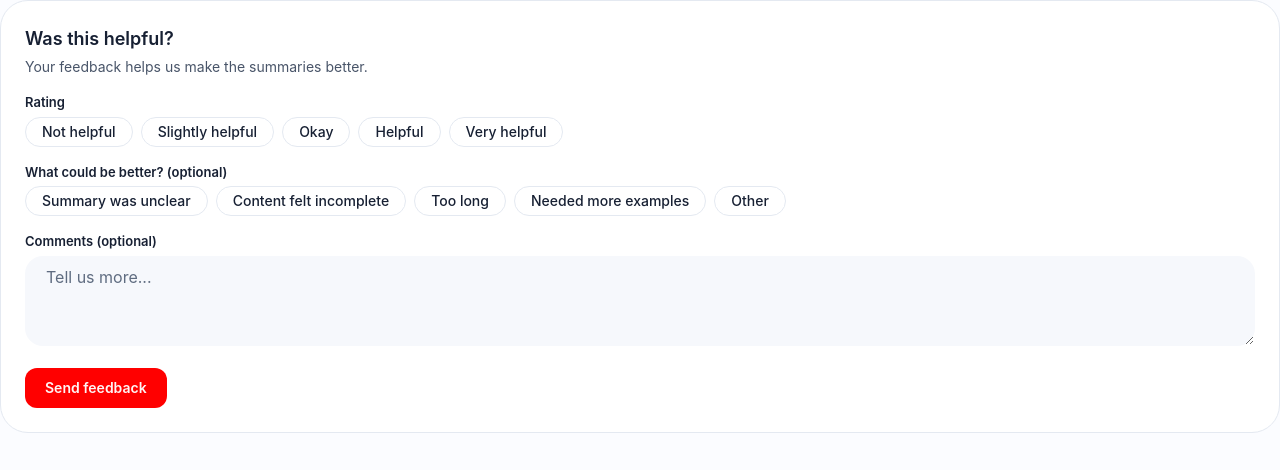
Test: FeedbackForm › falls back to the server message when there is no error code
The width and height of the screenshot is (1280, 470).
Step 1. Click the radio button labelled "Okay" → x=316, y=132, box [282,116,350,146]
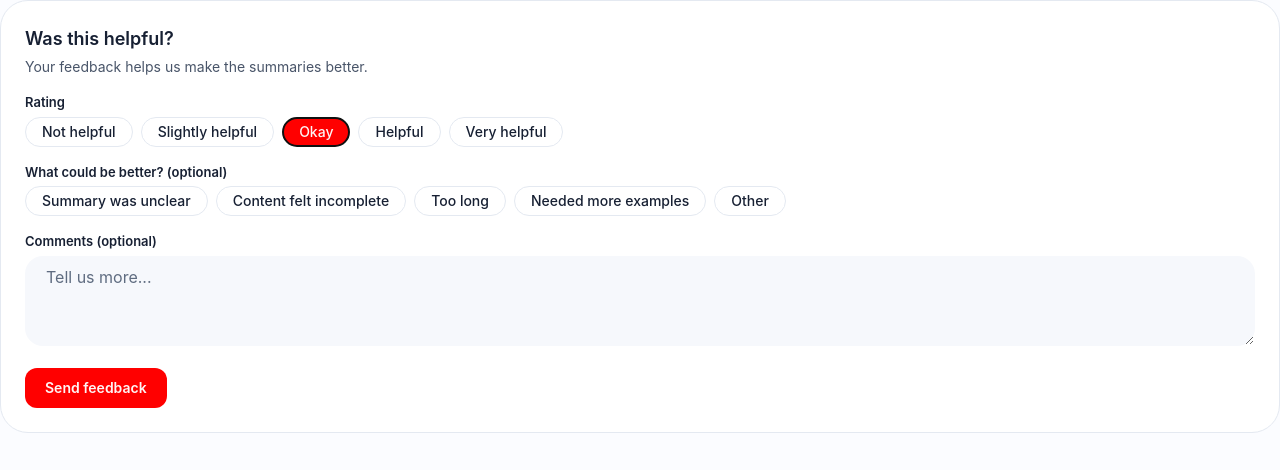
Step 2. Click the button "Send feedback" → x=96, y=388, box [25,368,167,408]
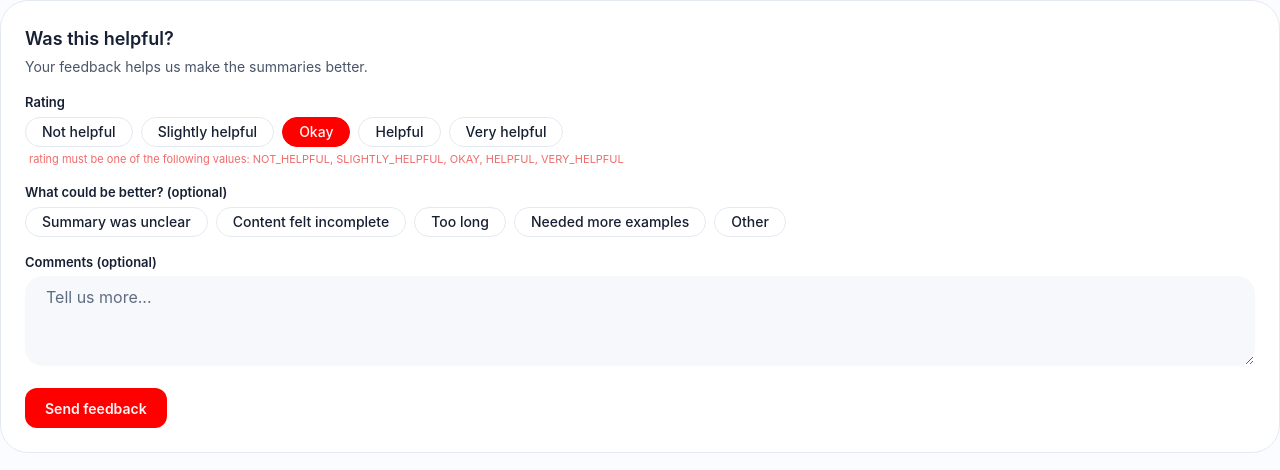
Check: the text "rating must be one of the following values" is shown, box [29,152,624,166]
